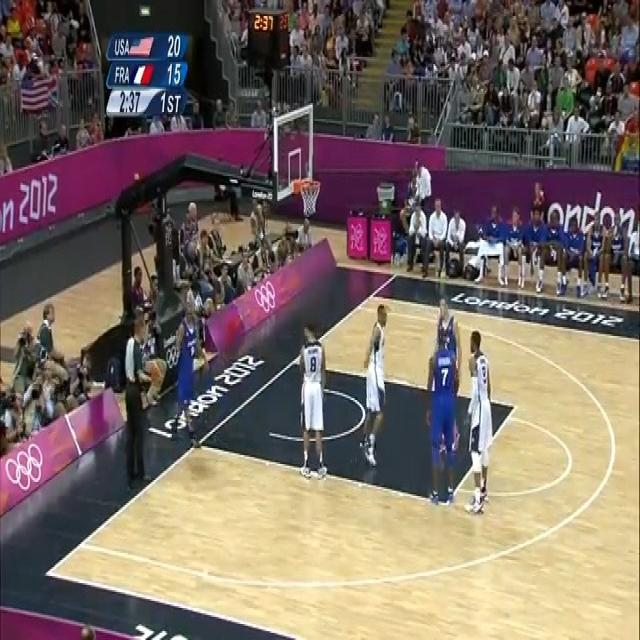basketball: (153, 363, 164, 387)
hoop: (296, 184, 323, 214)
person: (426, 311, 458, 504), (466, 330, 494, 515), (360, 299, 387, 463), (428, 199, 450, 276), (406, 200, 426, 272)
